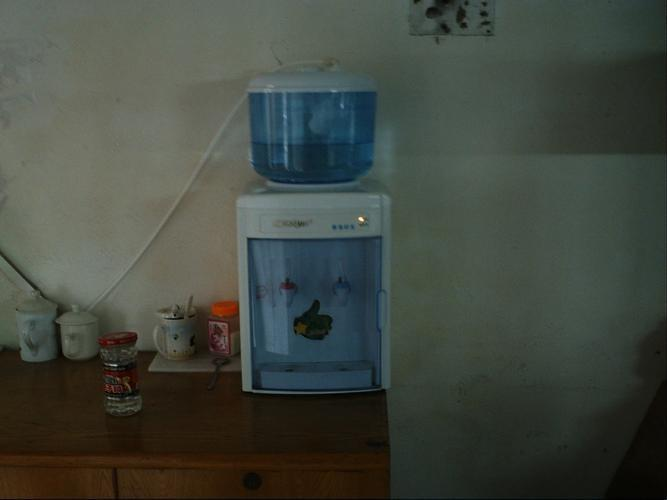Dispenser: (235, 70, 394, 393)
